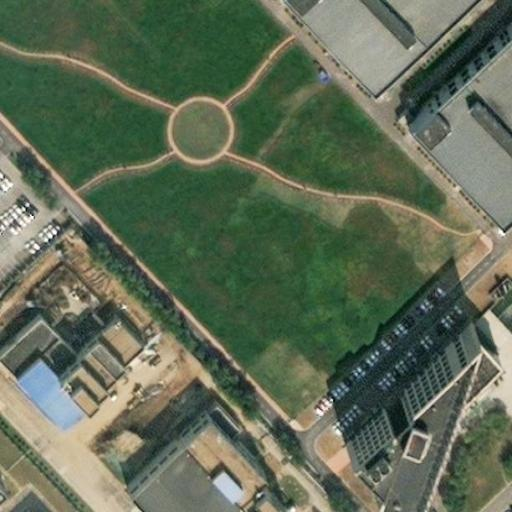building: (336, 315, 480, 509), (393, 5, 512, 219), (116, 407, 278, 512), (43, 315, 120, 391), (0, 305, 43, 366), (201, 395, 242, 437)
